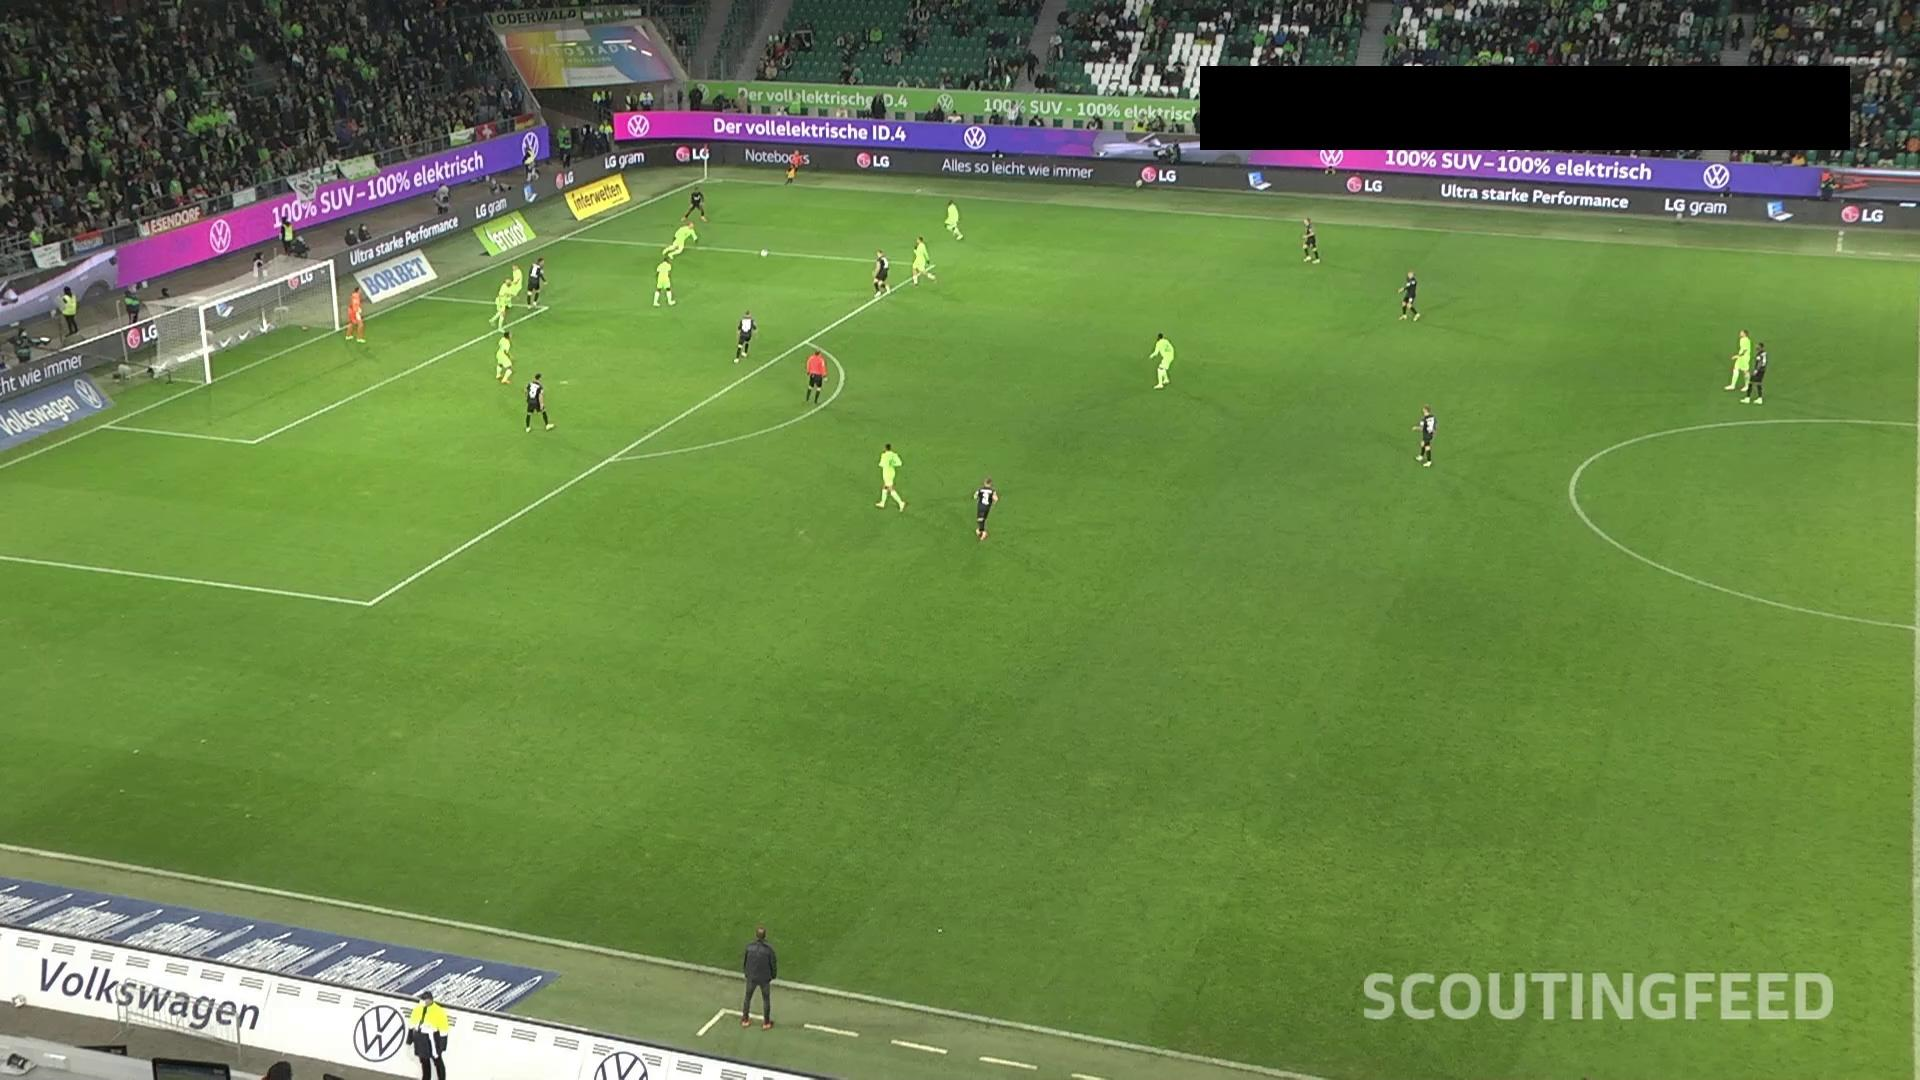Location-of-ball: (750, 240, 782, 268)
